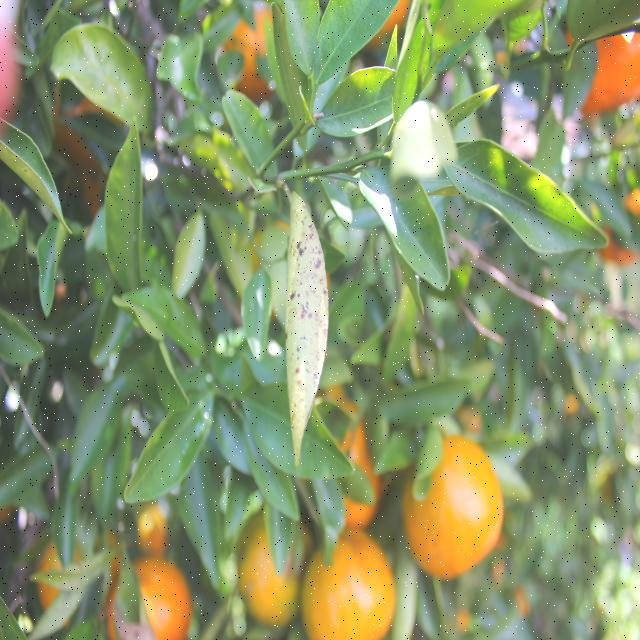melanose: (281, 191, 340, 473)
